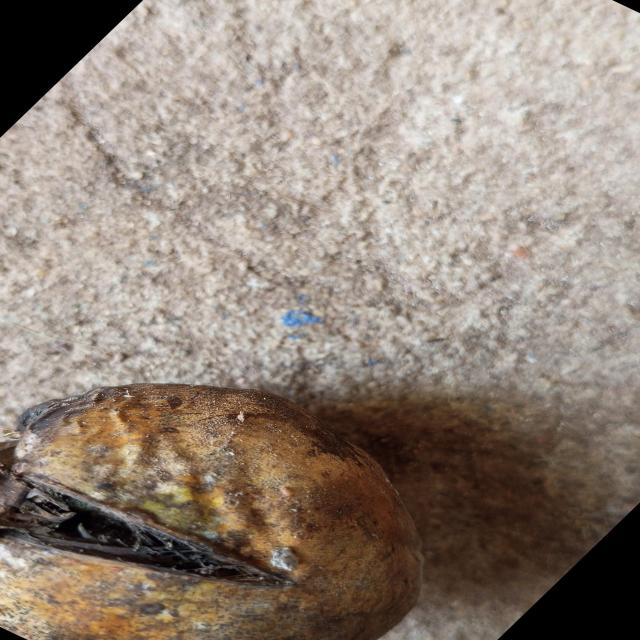damaged: (0, 384, 423, 640)
